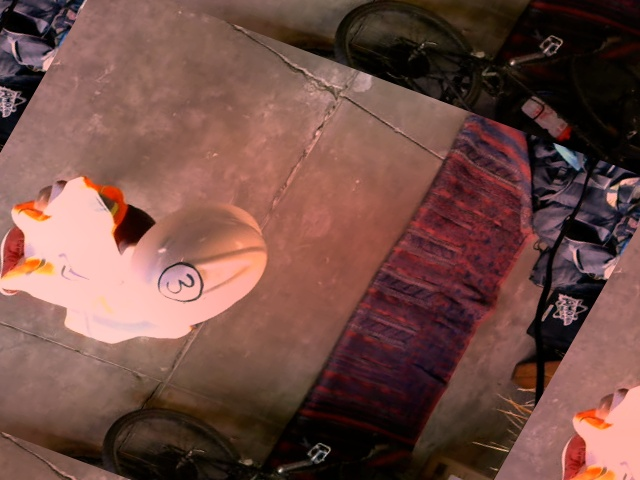three: (151, 257, 213, 308)
